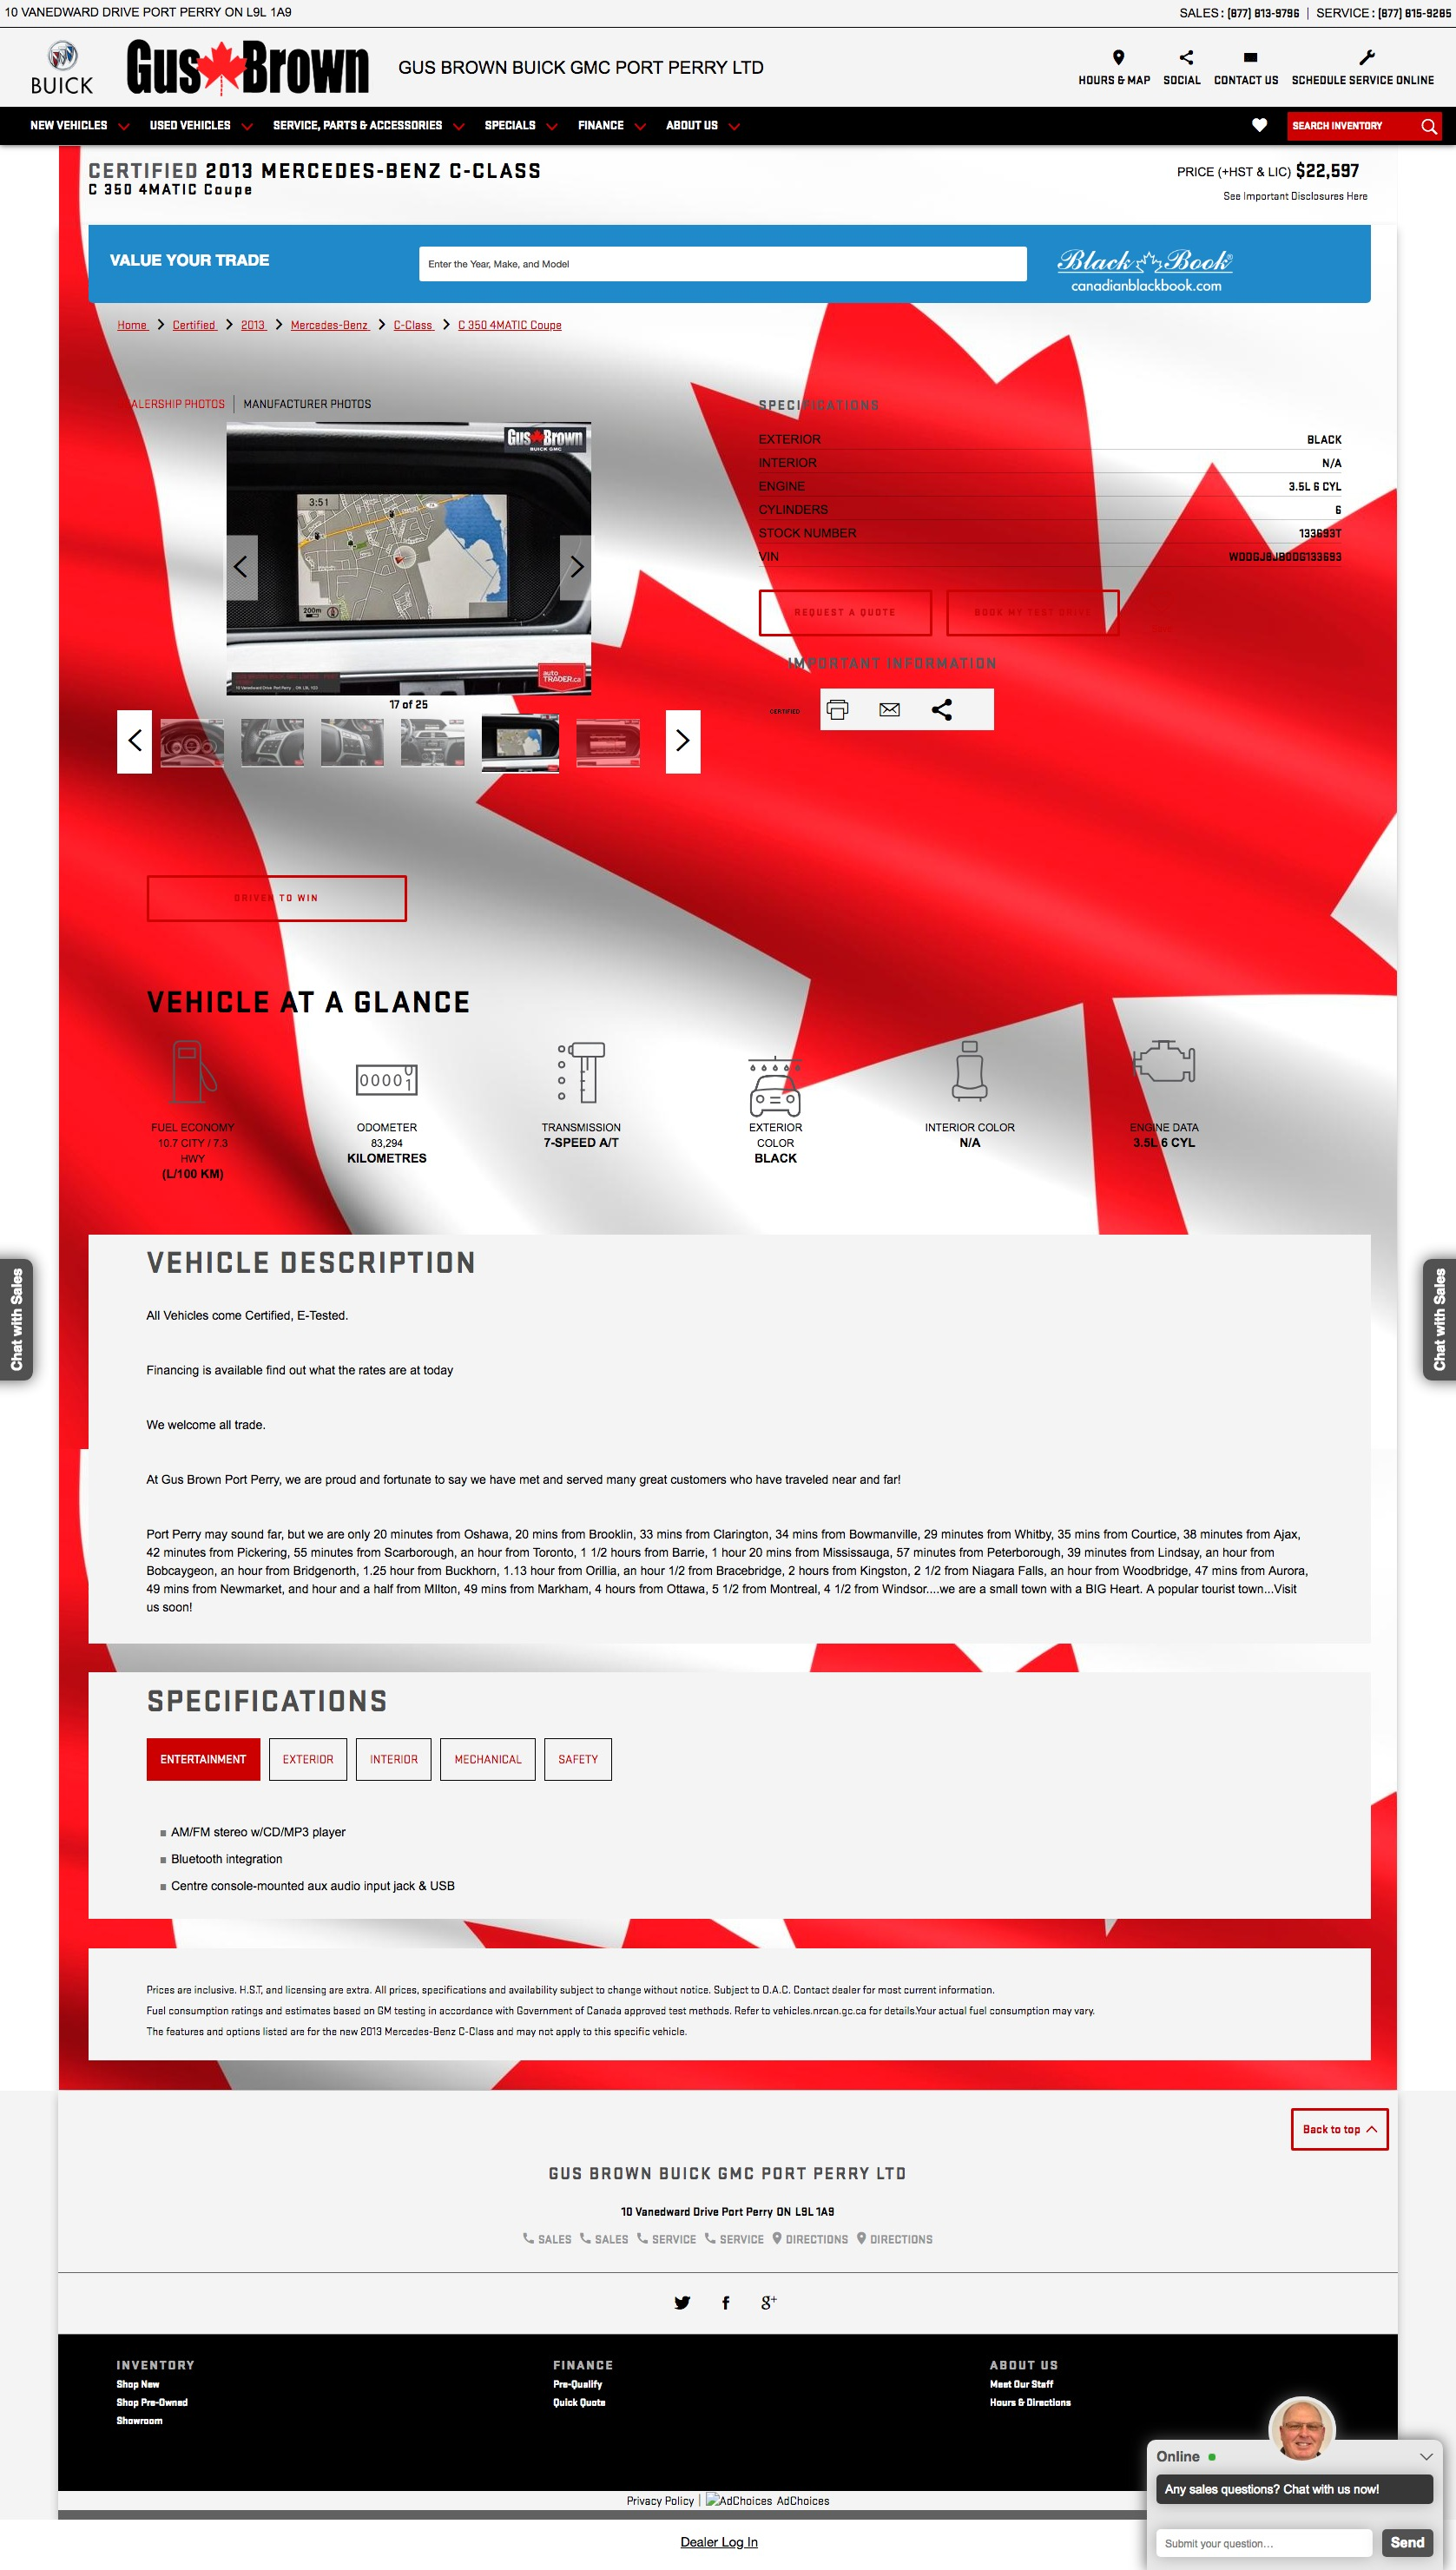car: (676, 731, 690, 752)
